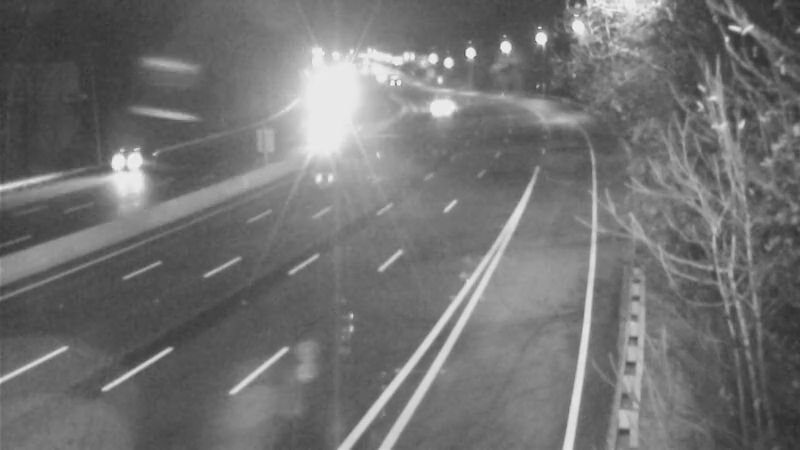vehicle: (86, 119, 166, 199), (367, 58, 417, 108), (410, 84, 460, 134), (301, 109, 351, 159)
